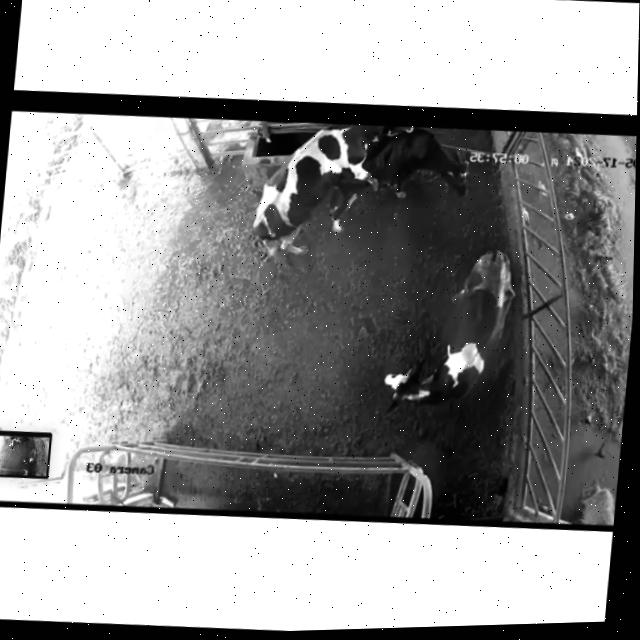ride: (247, 110, 411, 273)
stand: (366, 236, 530, 432), (364, 124, 485, 231)
